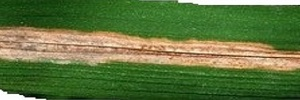RiceBacterialBlight: (2, 22, 299, 76)
